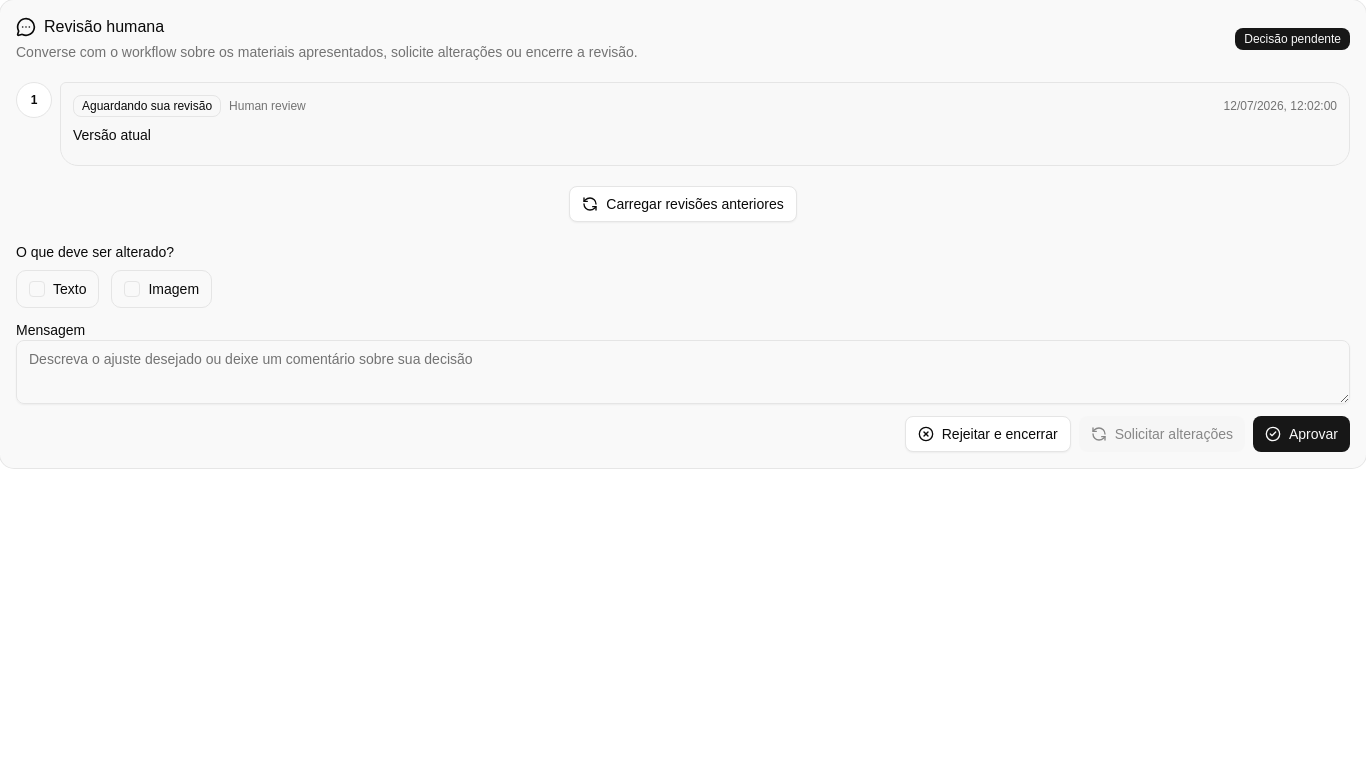
Test: HitlReviewPanel › accumulates older cursor pages without losing the current review
Expected: the text "Versão atual" is shown, [73,127,151,143]
What coordinates should you click on to do the following:
click the button "Carregar revisões anteriores"
I would click on:
 (683, 204)
Its box is [569,186,797,222].
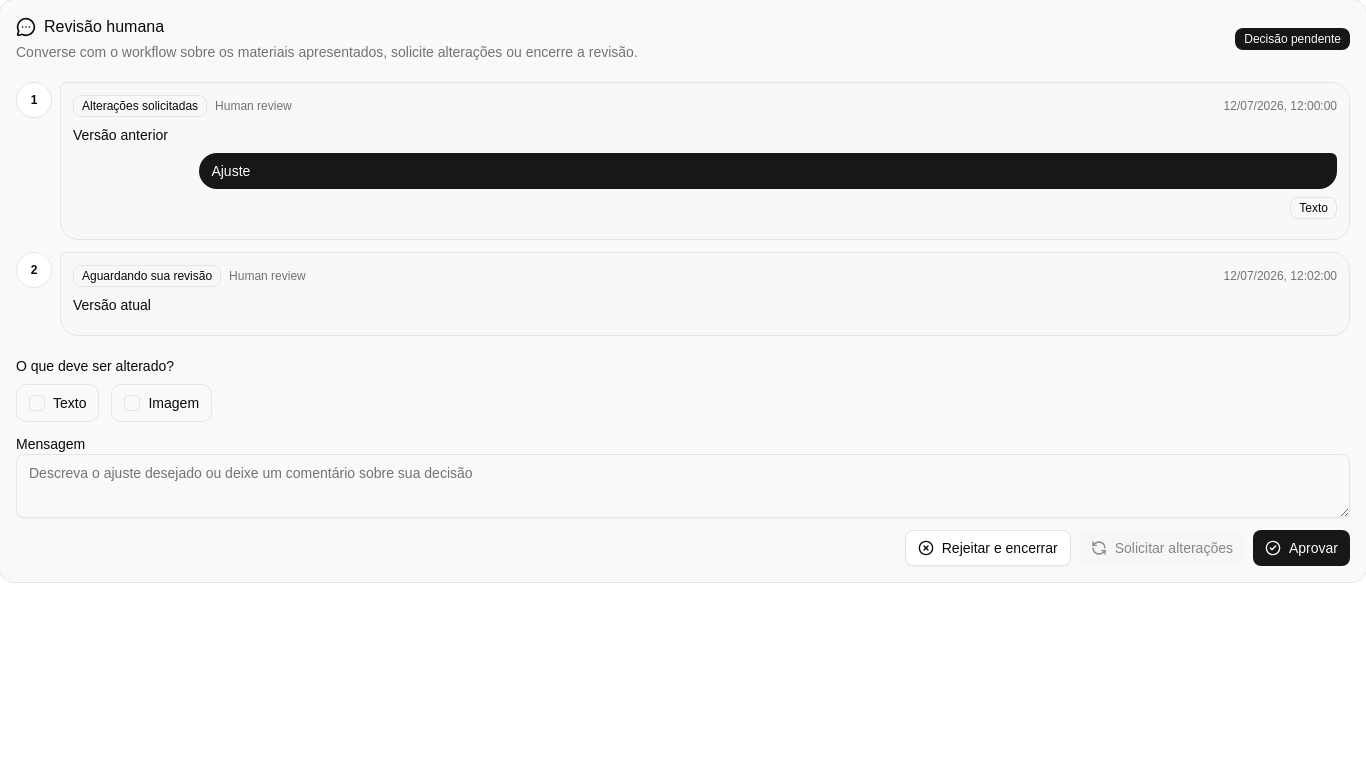
Expected: the text "Versão atual" is shown, [73,297,151,313]
Expected: the text "Versão anterior" is shown, [73,127,168,143]
